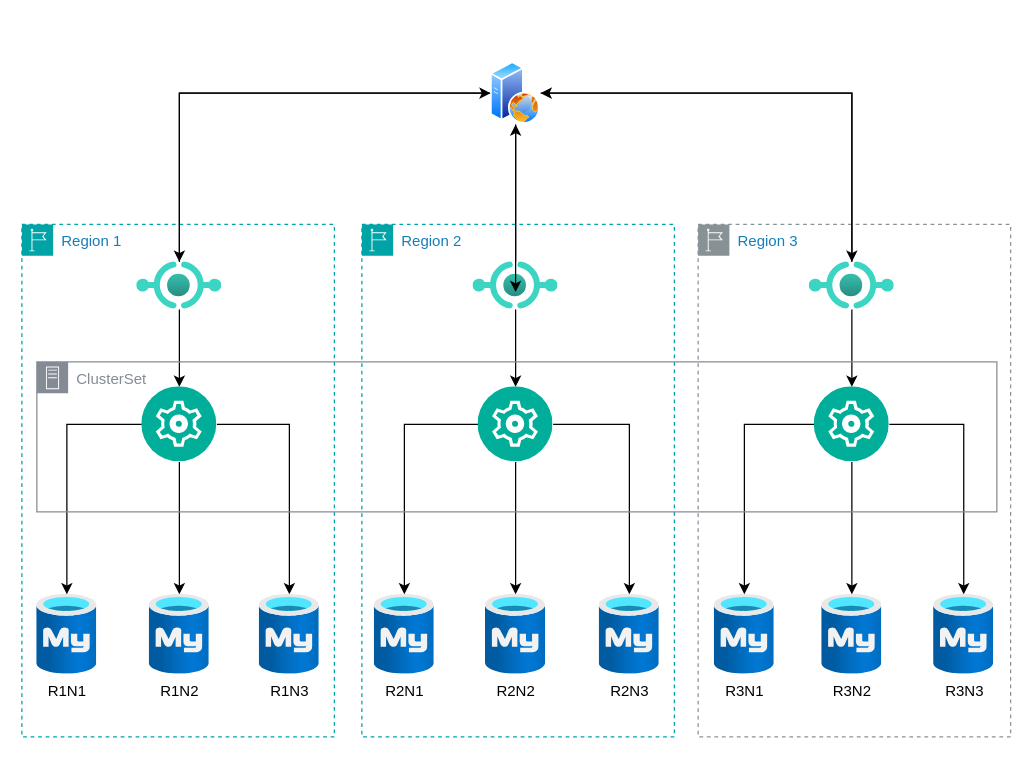
The diagram is 1033 pixels wide and 759 high, and some of its shapes have lost their labels. The centre of each missing label's shape, as x and y in pixels:
"HAProxy R1" belongs at (x=178, y=285).
"HAProxy R2" belongs at (x=515, y=285).
"HAProxy R3" belongs at (x=851, y=285).
"Region1 Cluster" belongs at (x=178, y=423).
"Region2 Cluster" belongs at (x=515, y=423).
"Region3 Cluster" belongs at (x=851, y=423).
"WEB APP (Spring Boot)" belongs at (x=515, y=92).
